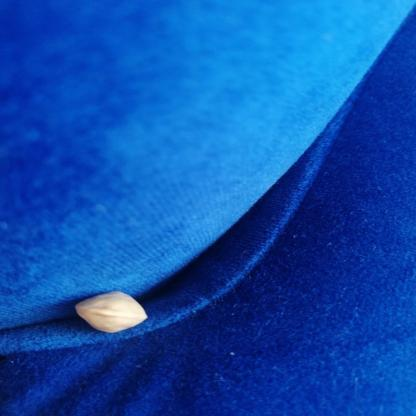pistachio: (70, 288, 151, 333)
